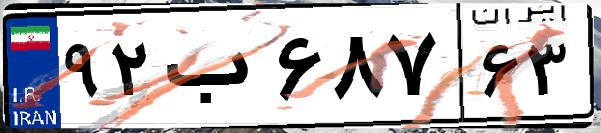2: (110, 28, 158, 98)
3: (525, 38, 570, 115)
6: (270, 28, 330, 110), (475, 38, 525, 113)
7: (385, 28, 445, 110)
8: (330, 28, 385, 110)
9: (57, 26, 110, 100)
ب: (158, 20, 270, 120)
